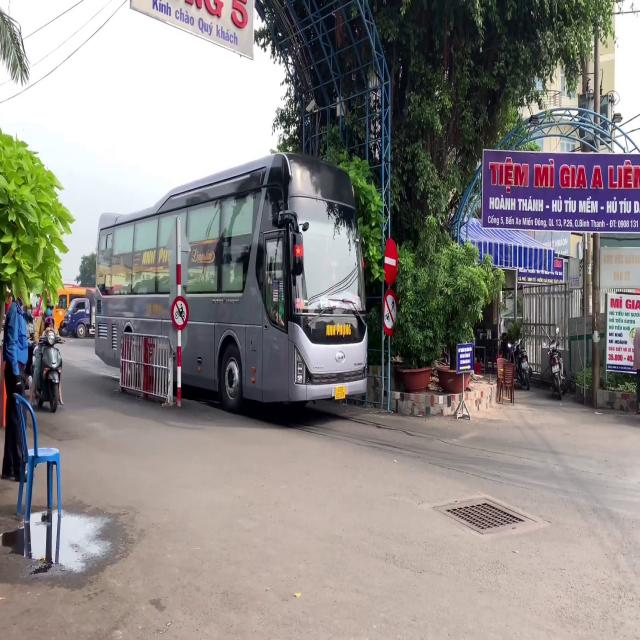bien_vang: (335, 386, 346, 399)
